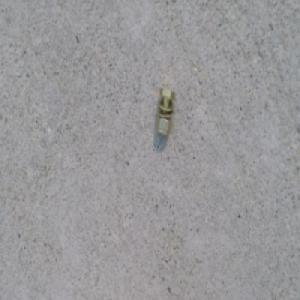BoltNutSet: (155, 88, 177, 136)
